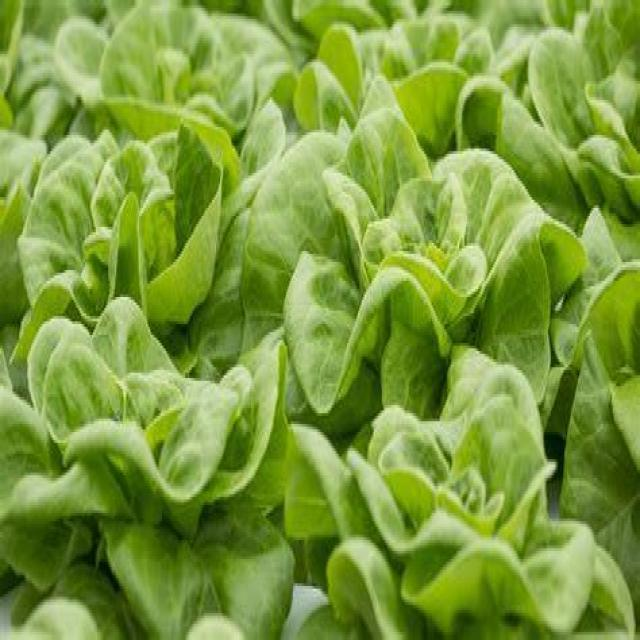Lettuce: (33, 84, 554, 610)
